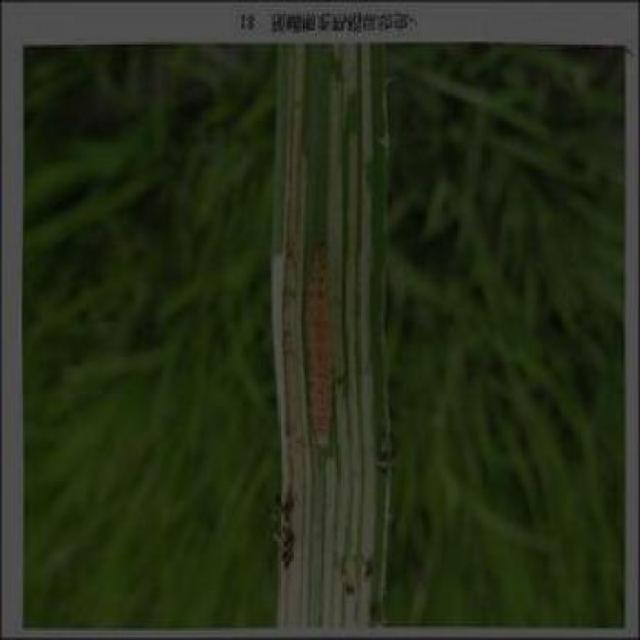leaf-folder: (295, 218, 342, 454)
